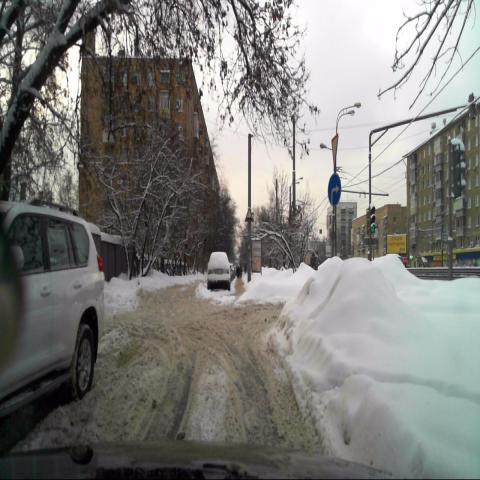1_16: (244, 207, 253, 222)
2_4: (331, 133, 339, 172)
4_1_2: (328, 172, 341, 206)
